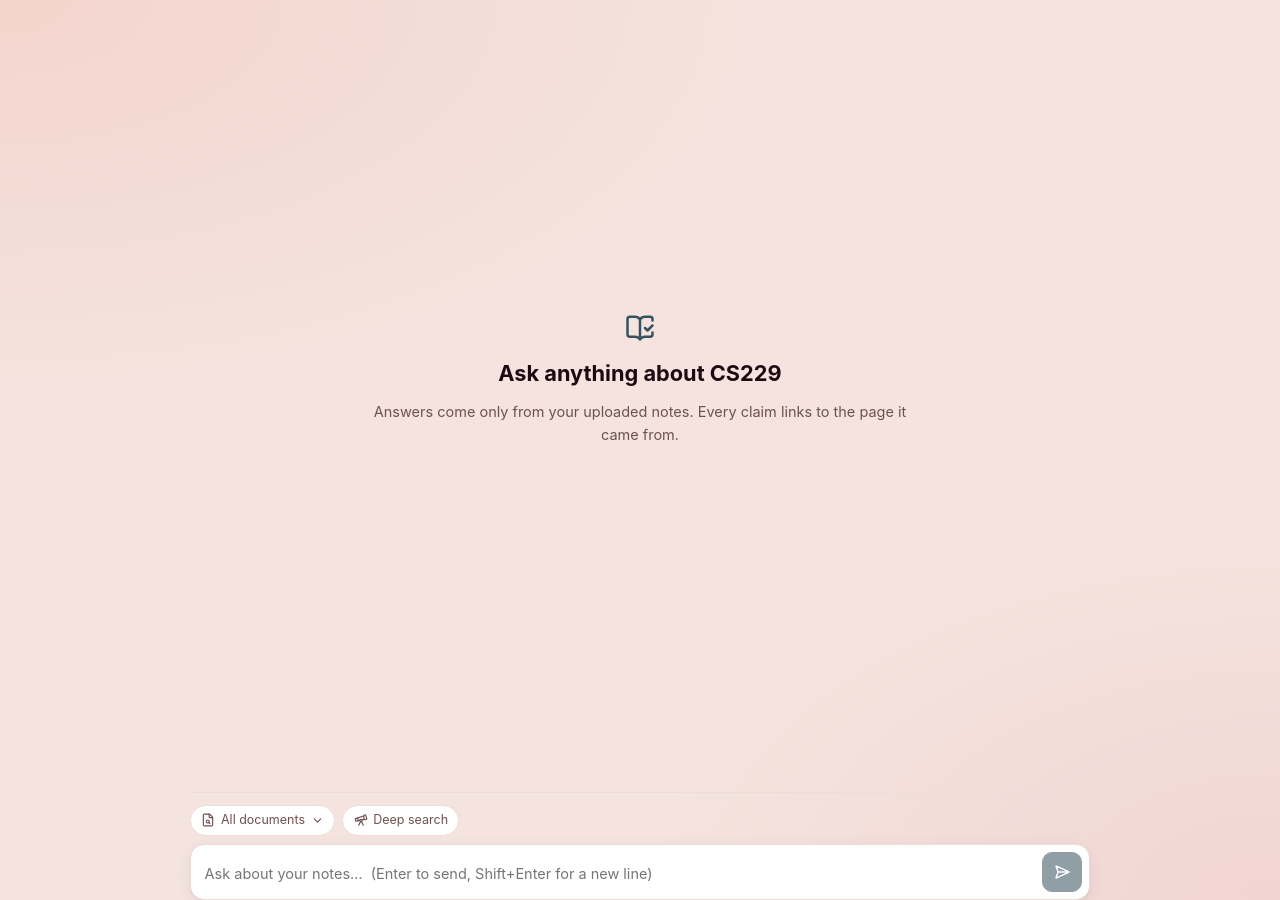
Test case: Chat › shows the not-found state
The width and height of the screenshot is (1280, 900).
Replace the text in the text box named "Your question" with "photosynthesis?" at (619, 874), box [205,857,1034,892]
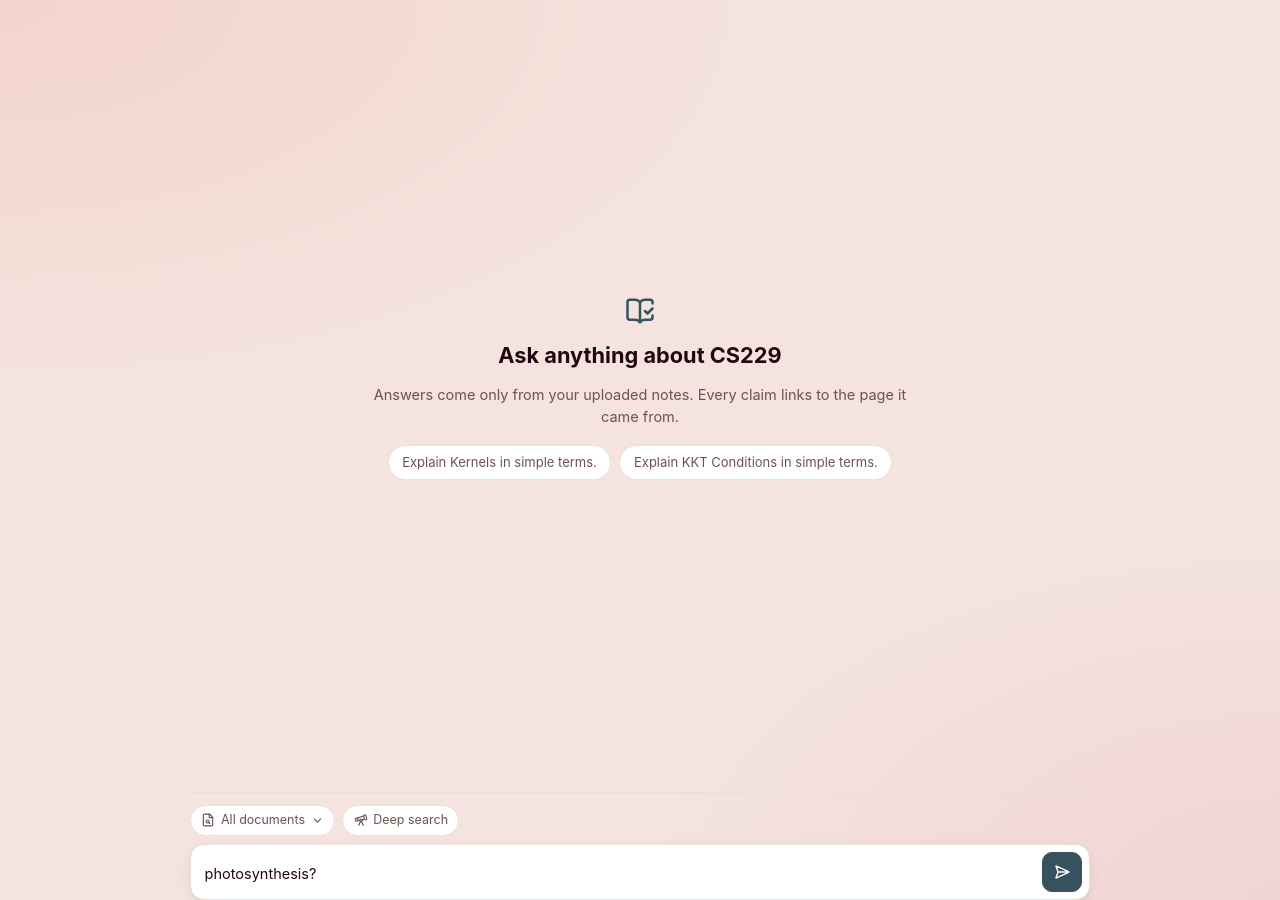
Press Enter in the text box named "Your question", box [205,857,1034,892]
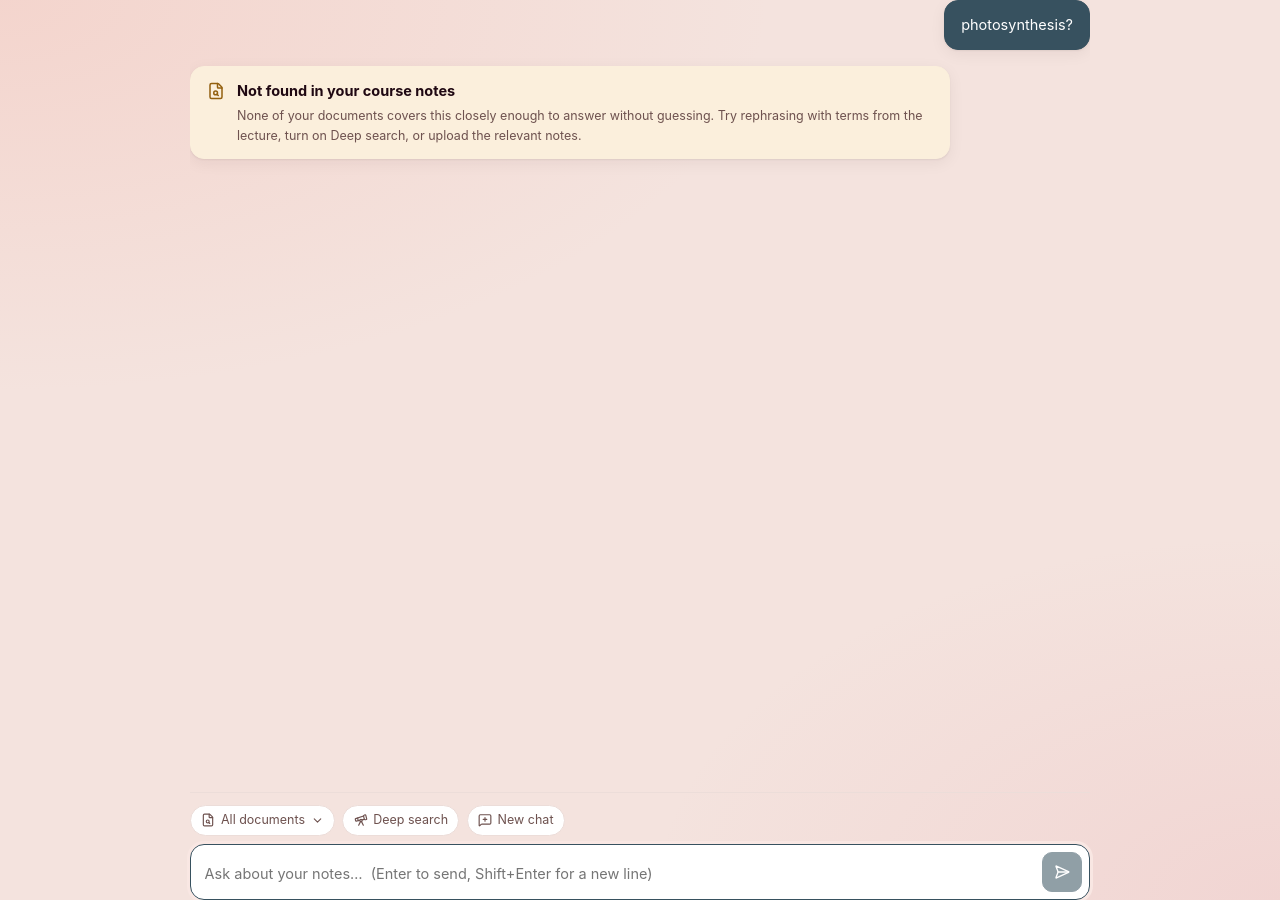
Now the element with test id "not-found" shows "Not found in your course notes", box [237,82,455,99]
